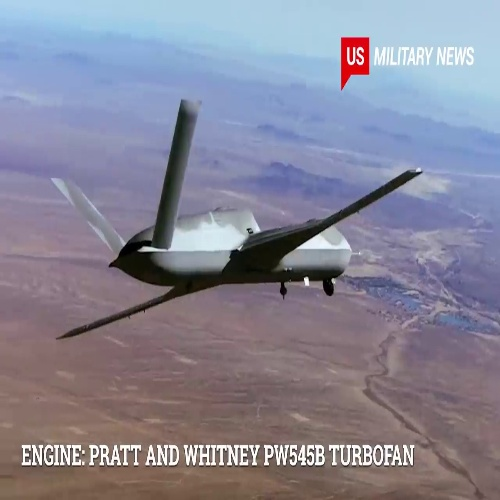uav350: (49, 99, 426, 341)
